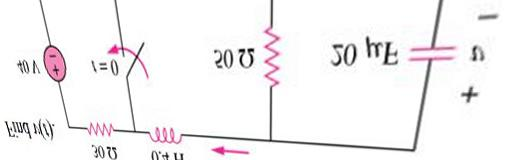resistor: (257, 17, 288, 86), (76, 116, 118, 136)
